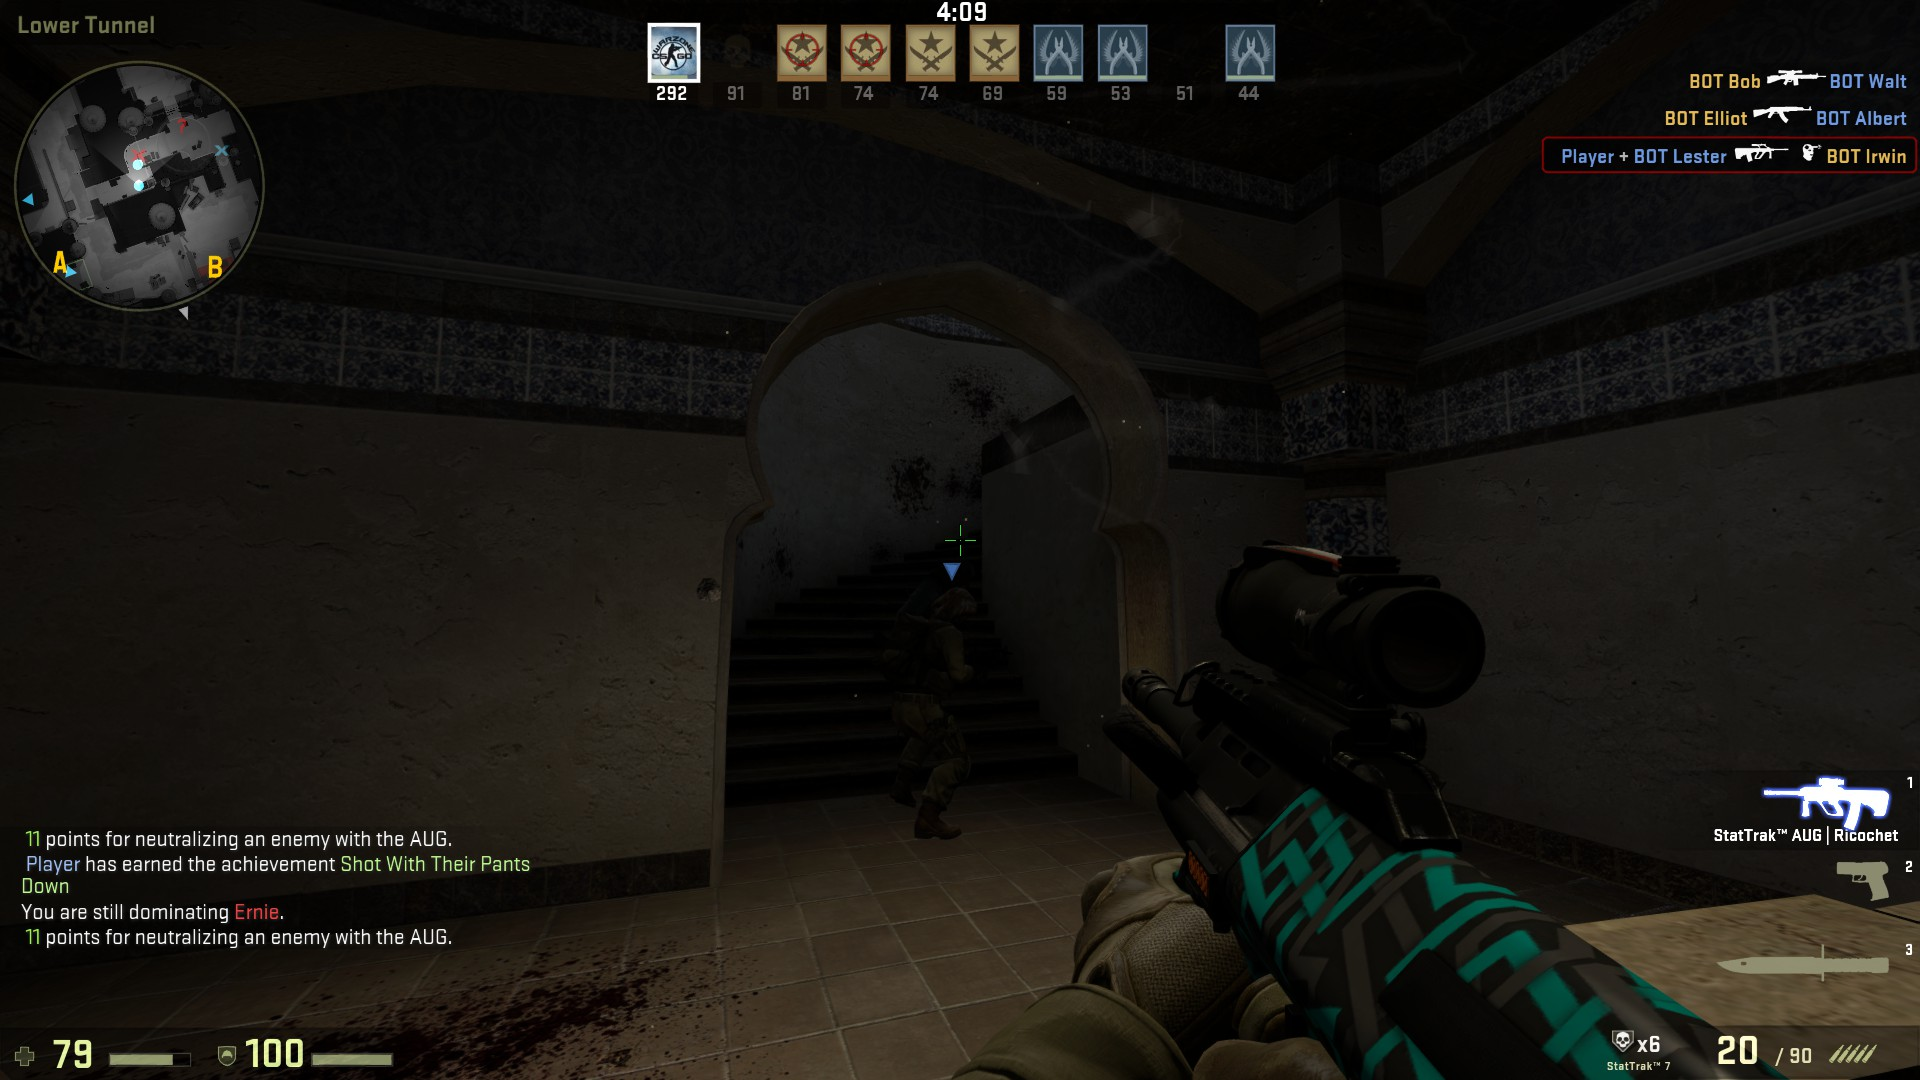c: (887, 582, 984, 844)
ch: (926, 579, 982, 626)
